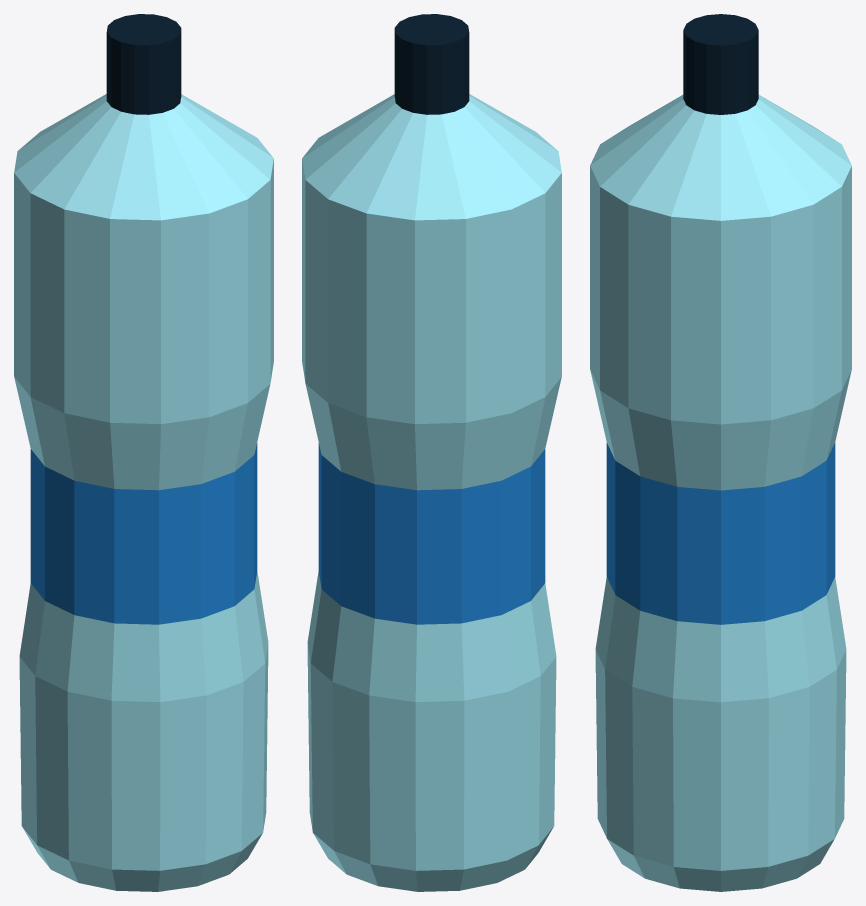
The model's file is WaterBottle_02.fbx.
3 views of the same model, side by side, from view 1: azimuth 30°, elevation 25°; view 2: azimuth 150°, elevation 25°; view 3: azimuth 270°, elevation 25° (orthographic).
Visible parts, largest first — view 1: WaterBottle_02; view 2: WaterBottle_02; view 3: WaterBottle_02.
Part boxes in pixels (x1,y1,x2,y2): WaterBottle_02: (14, 14, 273, 891); WaterBottle_02: (302, 14, 561, 891); WaterBottle_02: (590, 14, 851, 891).
Bounding box in the file's own units: 20.65 × 71.09 × 20.65.
